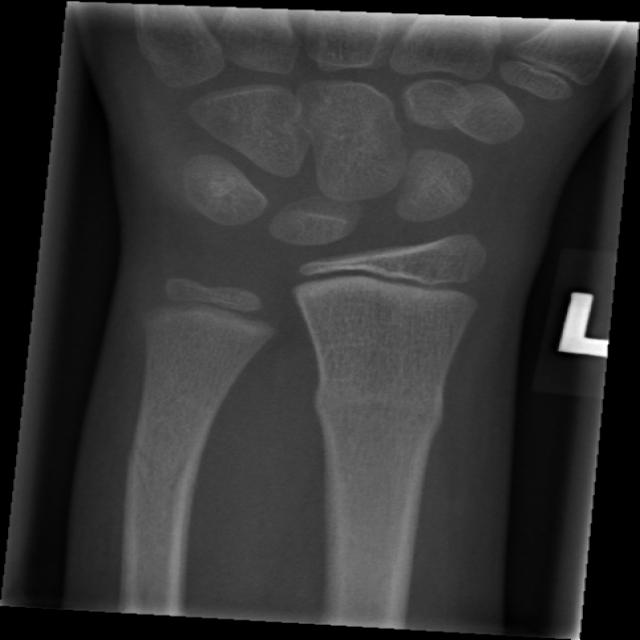radius fracture: (293, 338, 472, 493)
